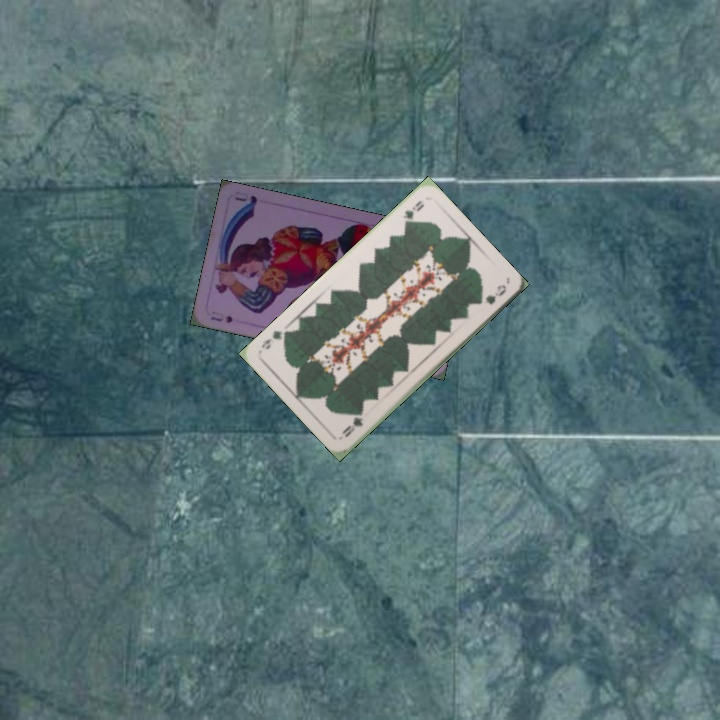G9: (337, 408, 366, 440), (399, 197, 427, 229)
SU: (207, 311, 236, 326)
